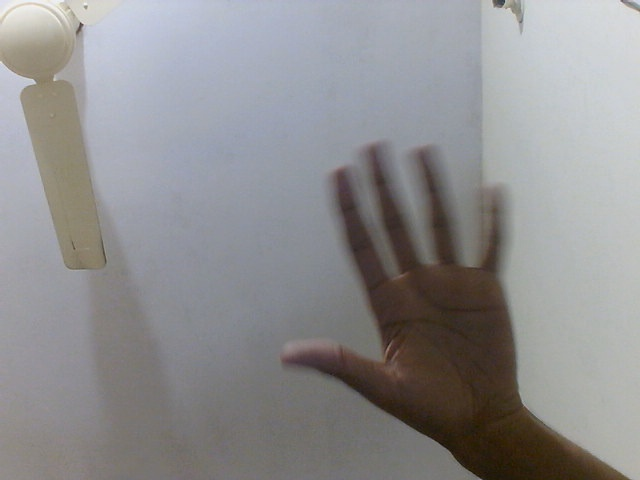hand: (271, 135, 540, 438)
